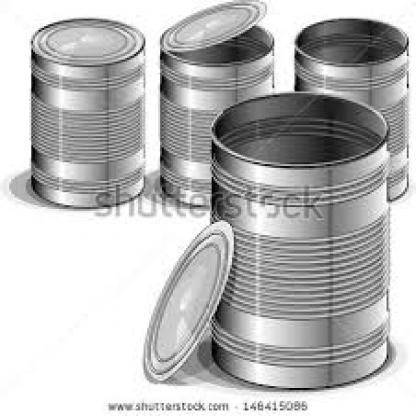Compsot: (210, 88, 386, 386), (30, 17, 144, 207), (292, 17, 406, 200), (158, 24, 272, 205), (142, 219, 232, 382), (156, 0, 266, 51)
